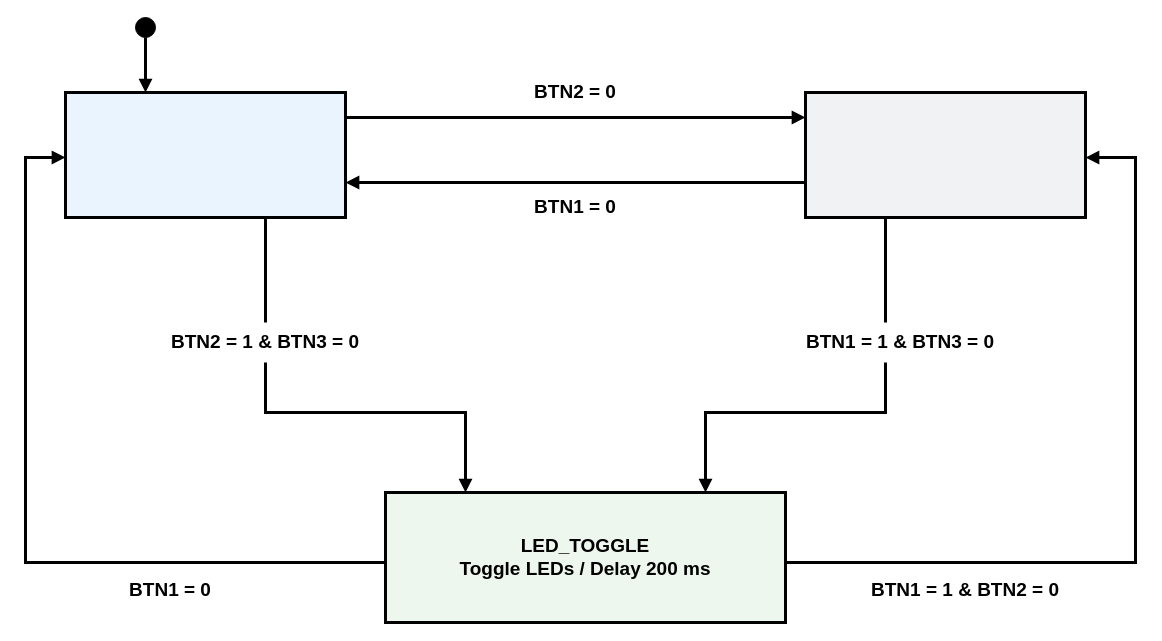
This 1162x641 diagram has some shape labels left out. Here are the shapes that lost their labels. From the top down, the centre of each, then its label:
At (x=205, y=154): "LED_ON All LEDs ON".
At (x=945, y=154): "LED_OFF All LEDs OFF".
